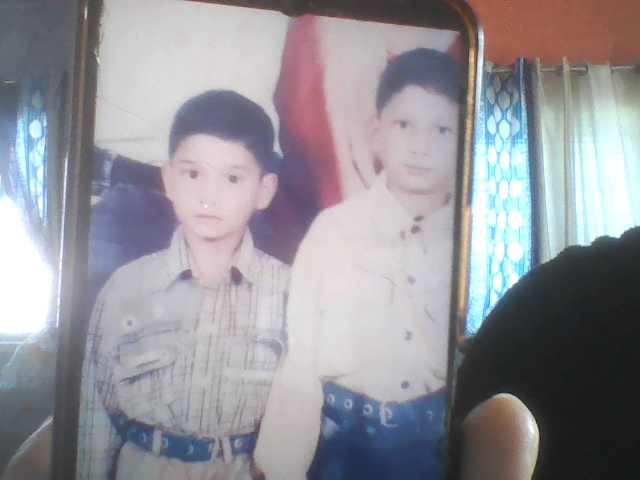fake: (168, 106, 268, 248)
